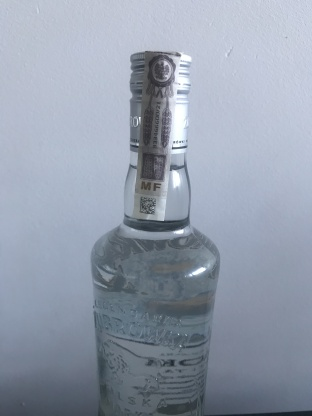nakretka: (127, 45, 193, 157)
